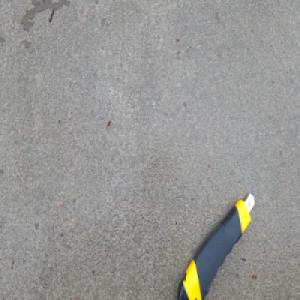Cutter: (174, 190, 255, 300)
